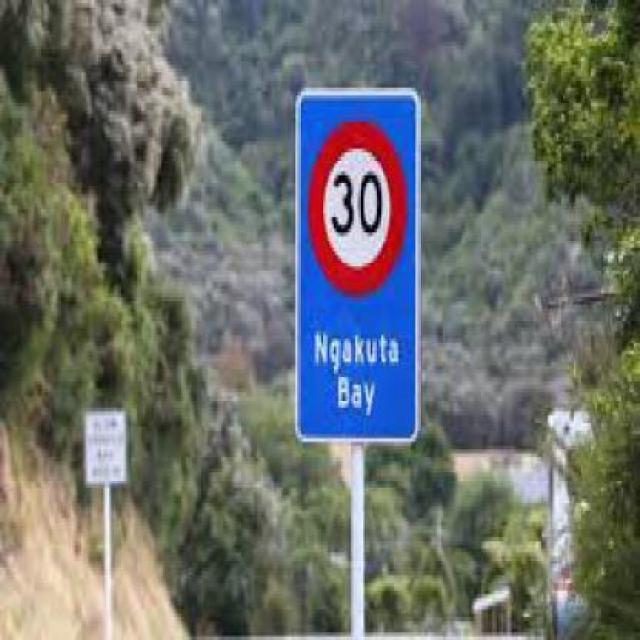Ograniczenie predkosci do 30: (305, 114, 413, 301)
